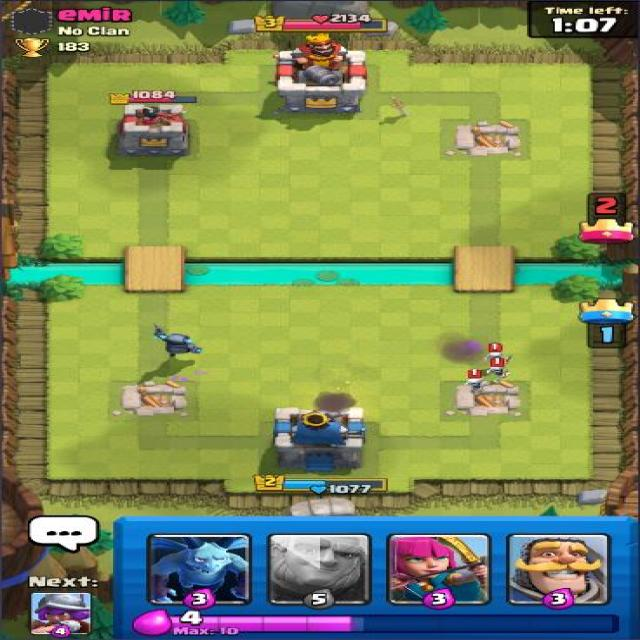Enemy-Skeleton: (480, 342, 518, 371), (480, 357, 515, 384), (463, 368, 492, 399)
Player-MiniPEKKA: (146, 321, 207, 360)
